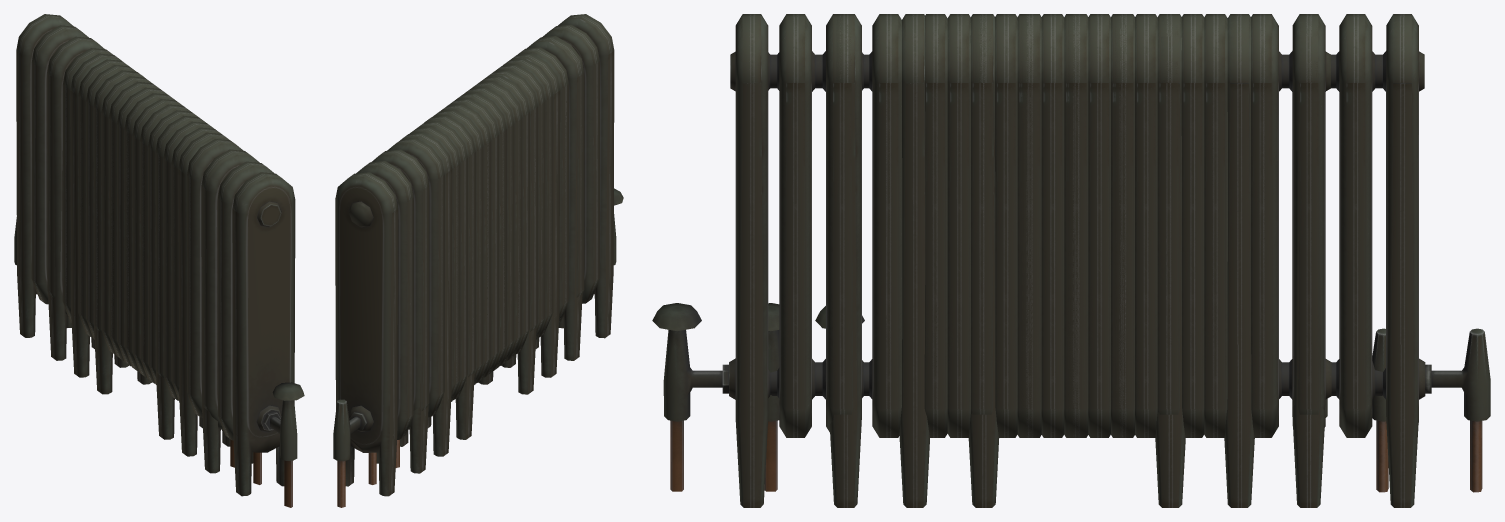
Rendered from Raadiators.fbx.
3 renders of one model, left to right at view 1: azimuth 30°, elevation 25°; view 2: azimuth 150°, elevation 25°; view 3: azimuth 270°, elevation 25°, orthographic. The views are drawn at different scales.
Parts seen in each view (by area): view 1: Rad_4, Rad_3, Rad_2, Rad_1; view 2: Rad_4, Rad_2, Rad_3, Rad_1; view 3: Rad_4, Rad_3, Rad_2, Rad_1.
Part boxes in pixels (x1,y1,x2,y2): Rad_4: [14, 14, 304, 507]; Rad_3: [47, 37, 261, 484]; Rad_2: [70, 53, 234, 467]; Rad_1: [93, 70, 204, 439]; Rad_4: [333, 14, 623, 507]; Rad_2: [395, 53, 560, 467]; Rad_3: [368, 37, 582, 484]; Rad_1: [424, 70, 536, 439]; Rad_4: [652, 14, 1490, 507]; Rad_3: [764, 14, 1388, 507]; Rad_2: [815, 14, 1327, 507]; Rad_1: [968, 14, 1185, 507].
Size of the model in its own units: 15.03 by 79.3 by 128.
Materials: 1 (1 with a texture image).
